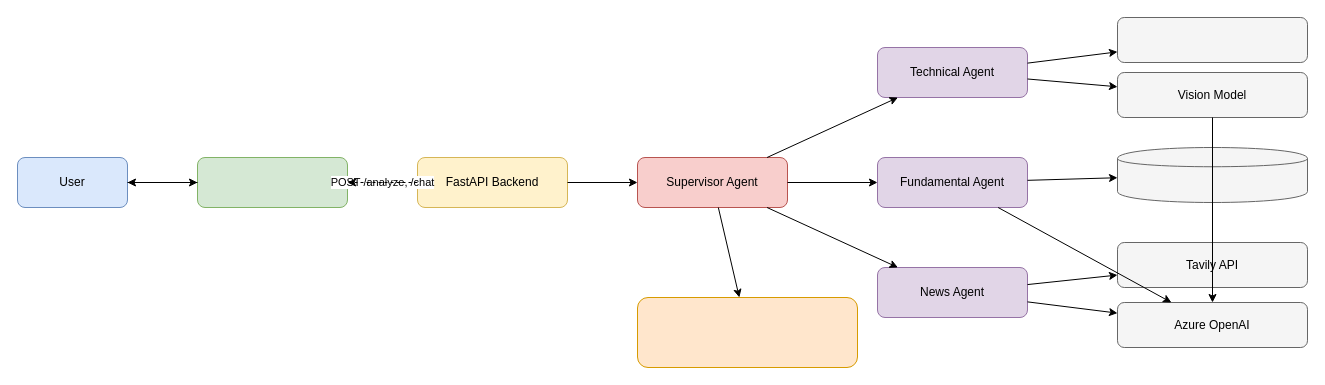
Some shapes in this 1325 by 385 pixel diagram are drawn without their labels. The box of each missing label's shape, as (x1, y1, x2, y2) in pixels:
Market Data Provider: (1116, 16, 1308, 62)
Next.js Frontend: (196, 156, 348, 208)
Postgres + pgvector: (1116, 146, 1308, 202)
Sectioned Report 6-Month Rating (1-10): (636, 296, 858, 368)
